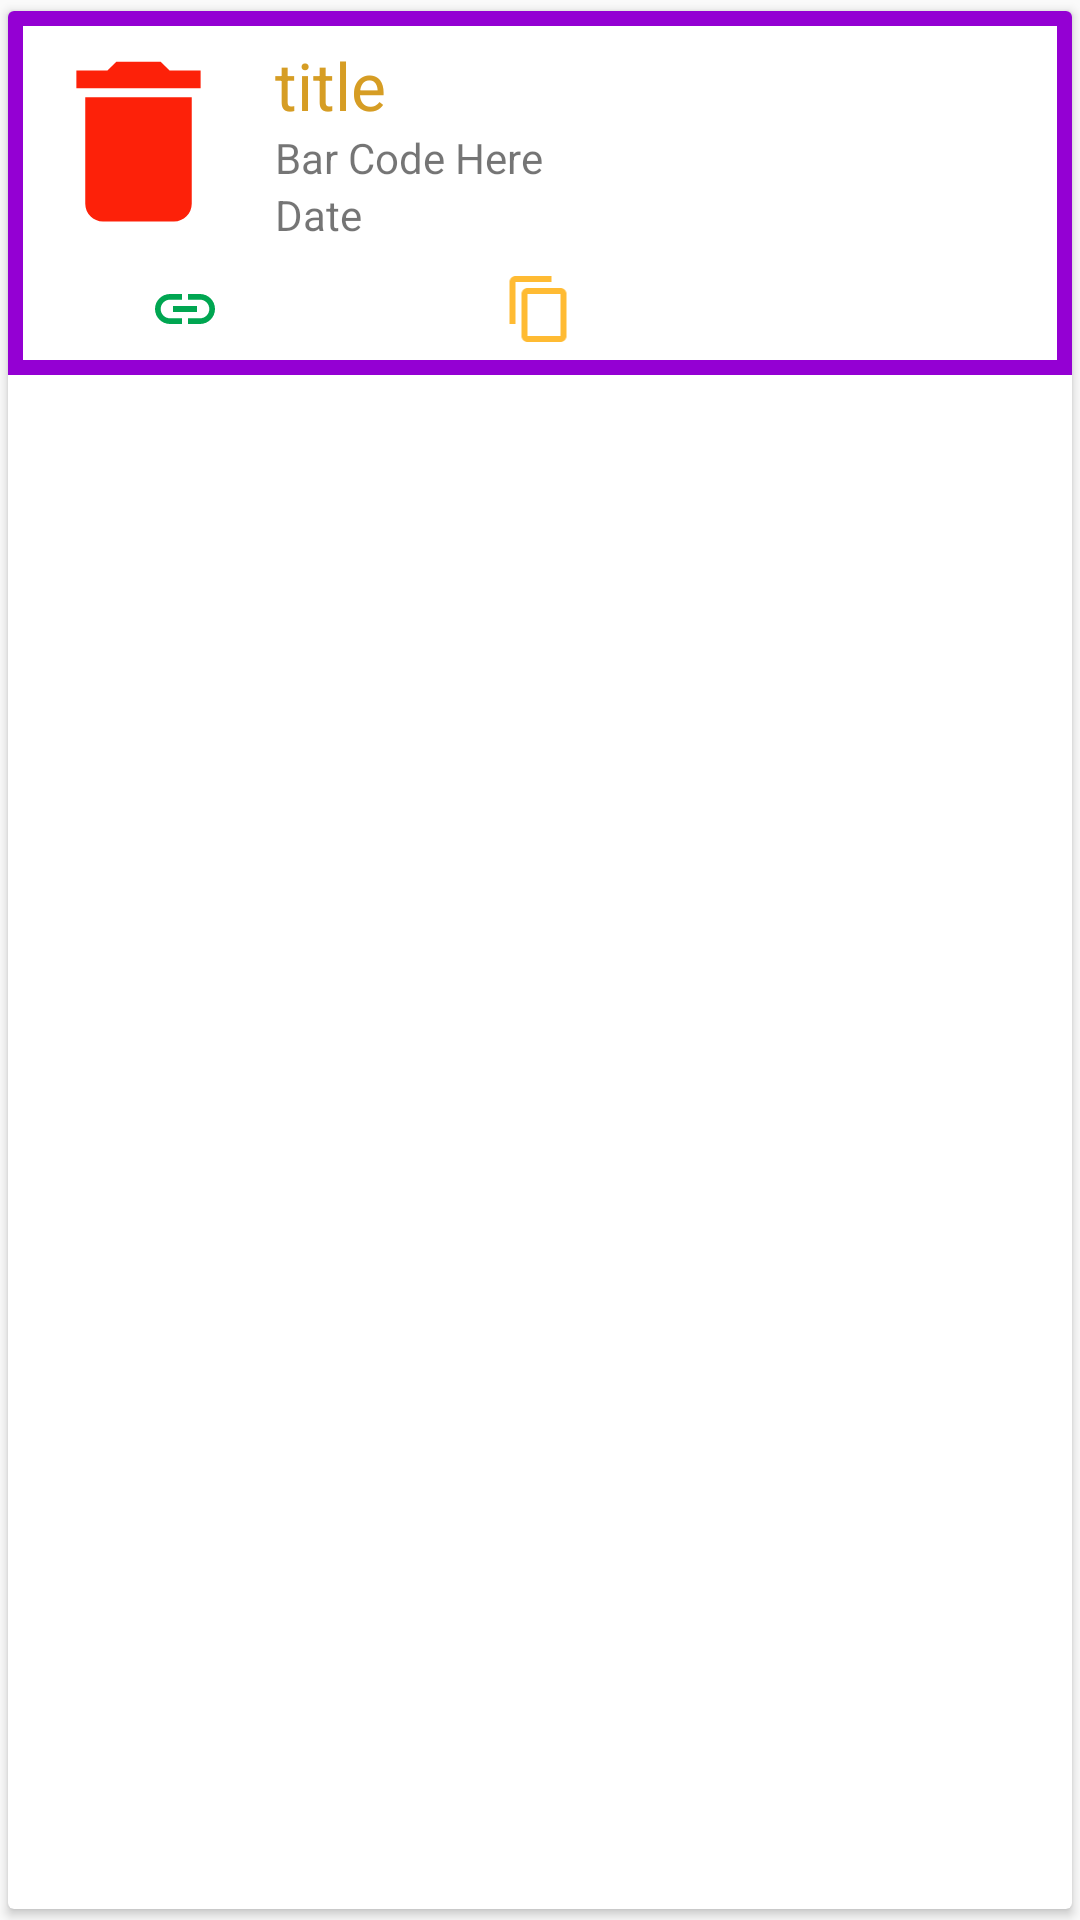

Icons on this 1080 × 1920 Android screen, each with the point to tap as (x=x, y=y):
delete: (x=138, y=141)
